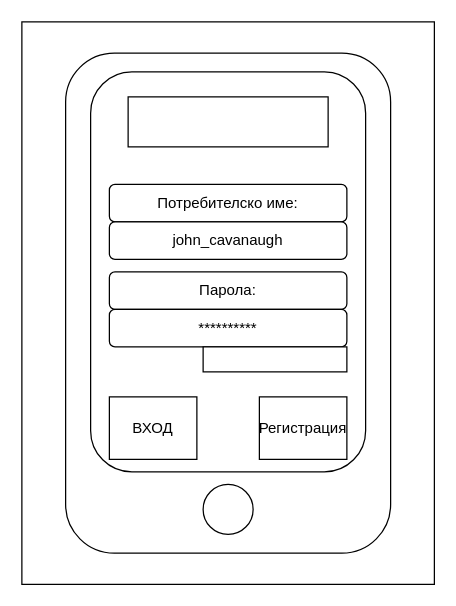
The diagram is 456 pixels wide and 606 high, and some of its shapes have lost their labels. Here are the shapes that lost their labels. From the top down, the centre of each, then its label:
At point 227,121: "Вход в информационната система".
At point 274,359: "Забравена парола".
